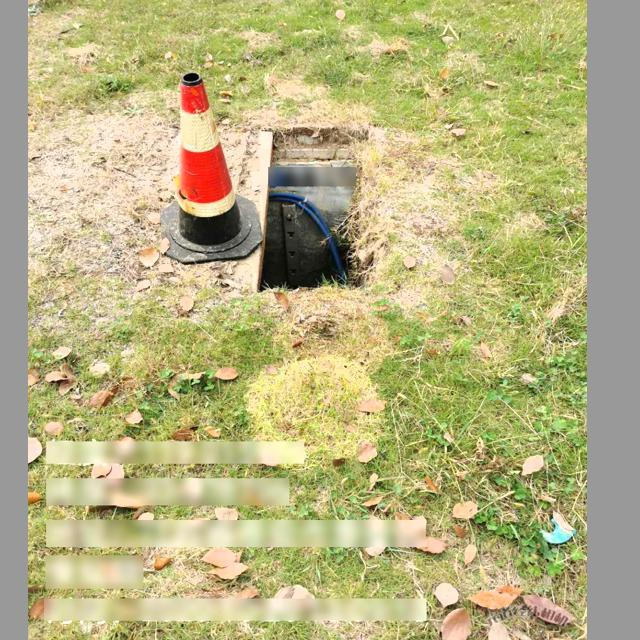lose: (251, 122, 369, 293)
